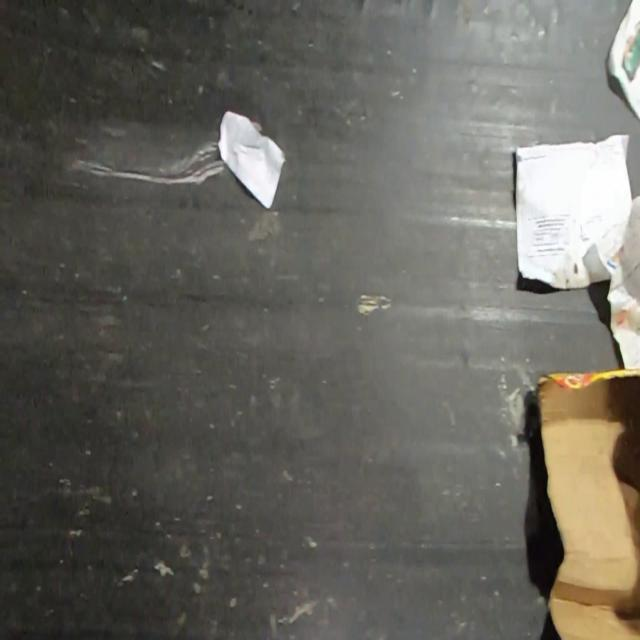cardboard: (535, 367, 640, 640)
